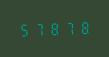eight: (46, 20, 59, 36), (74, 19, 87, 35)
five: (18, 21, 31, 37)
seven: (32, 20, 45, 37), (60, 19, 73, 36)
